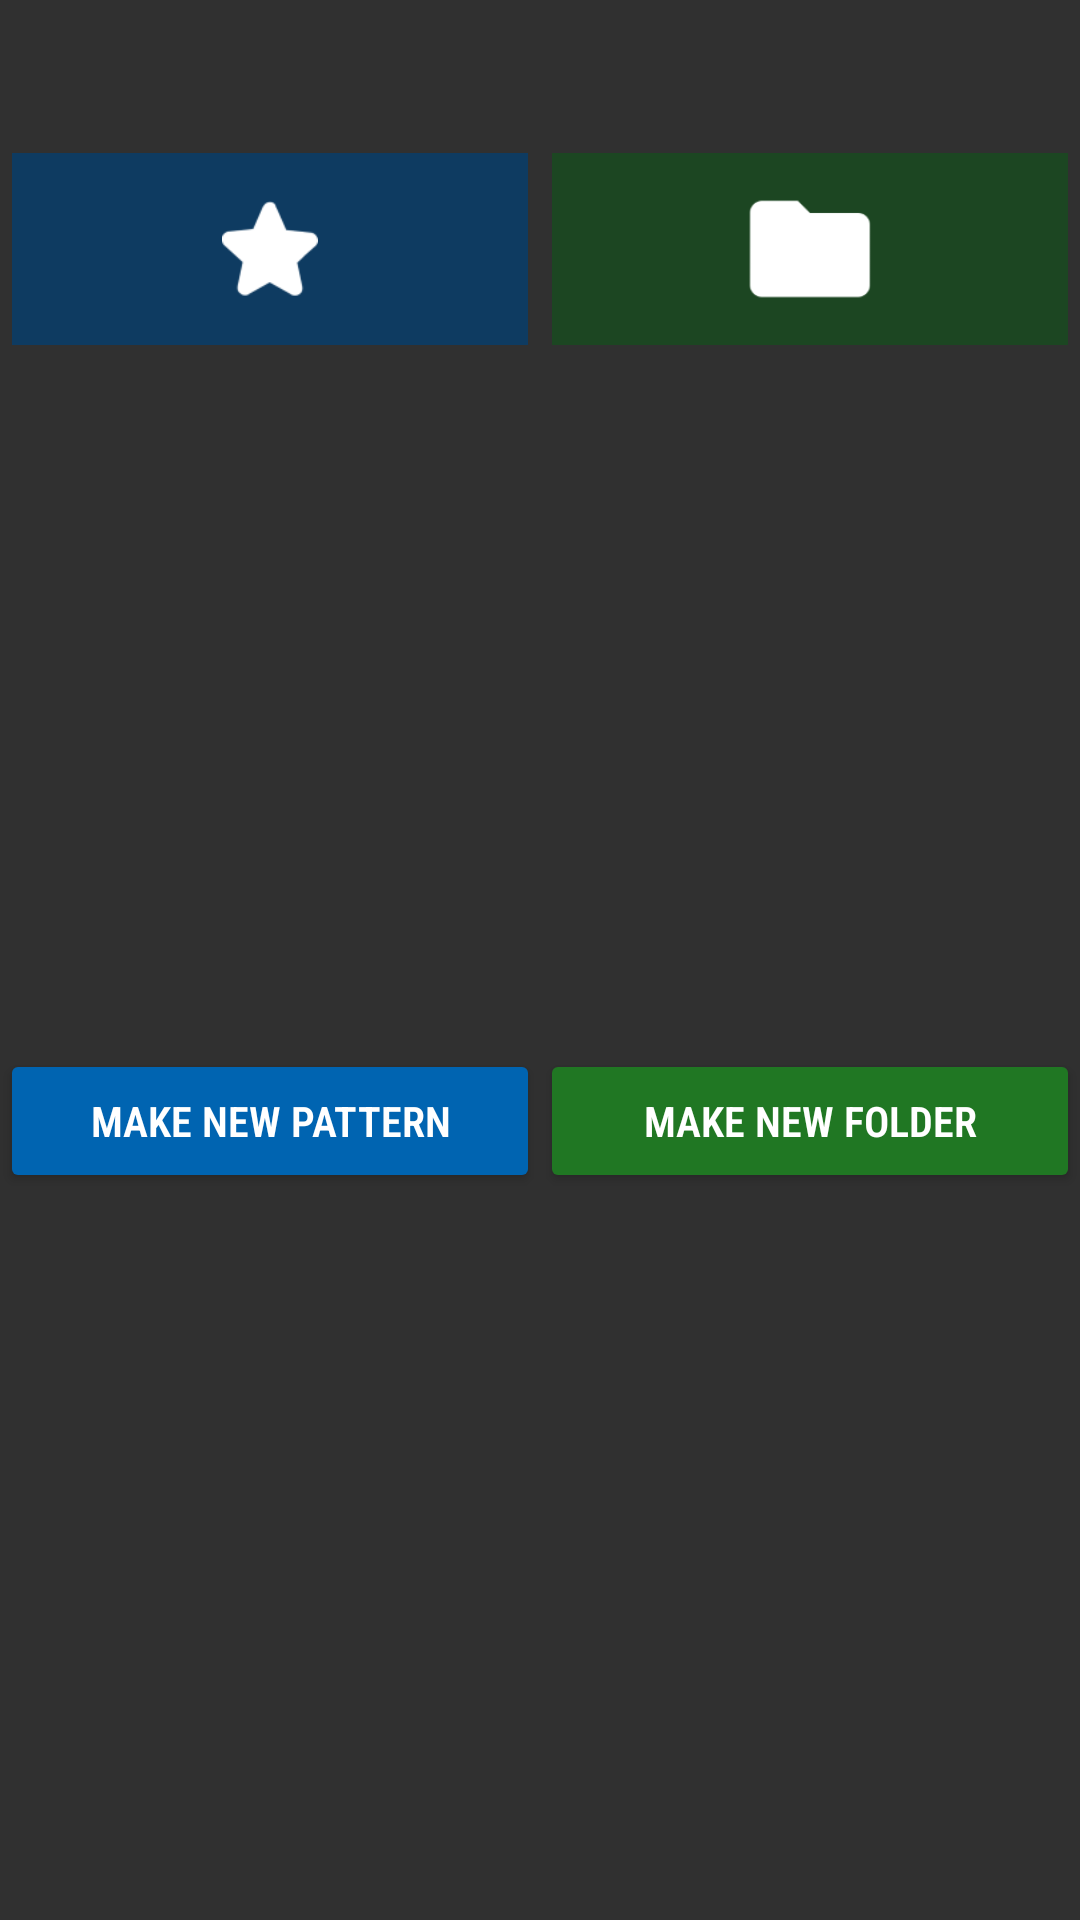

Named icons in this screenshot (1080px x 1920px) and their centers, (x=x, y=y):
folder: (x=810, y=249)
